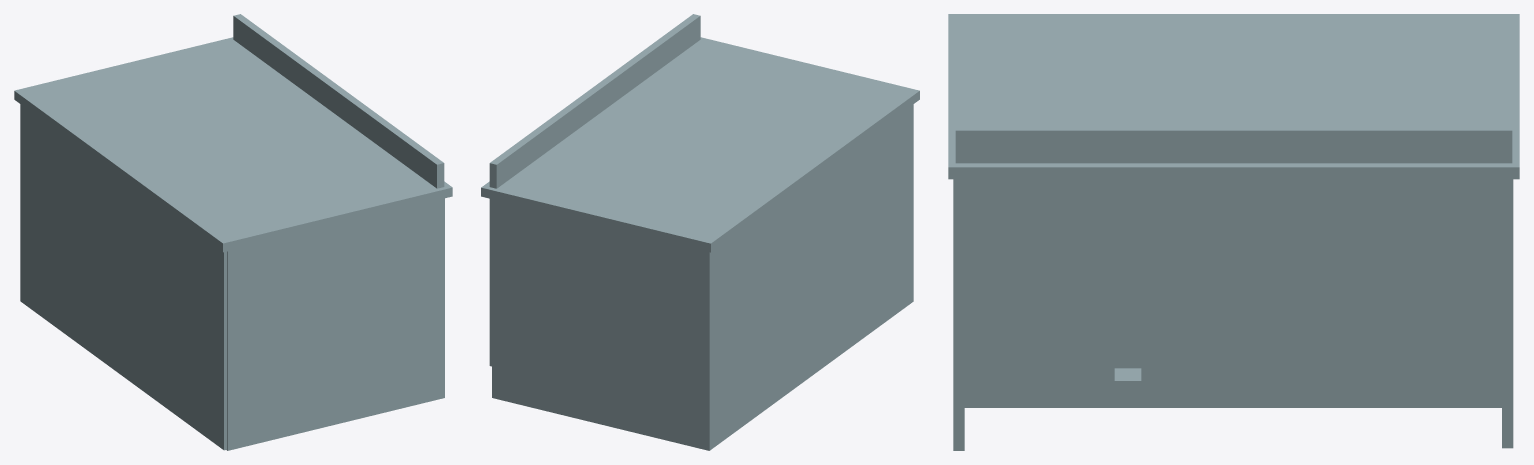
The model's file is boxy.fbx.
3 views of the same model, side by side, from view 1: azimuth 30°, elevation 25°; view 2: azimuth 150°, elevation 25°; view 3: azimuth 270°, elevation 25° (orthographic). The views are drawn at different scales.
Visible parts, largest first — view 1: pCube7, pCube4, pCube1, pCube8; view 2: pCube7, pCube5, pCube1, pCube8; view 3: pCube8, pCube7, pCube4, pCube5.
Part boxes in pixels (bbox=[...]): pCube7: bbox=[14, 37, 452, 252]; pCube4: bbox=[227, 198, 444, 450]; pCube1: bbox=[20, 104, 226, 450]; pCube8: bbox=[233, 14, 444, 188]; pCube7: bbox=[481, 37, 919, 252]; pCube5: bbox=[492, 199, 709, 450]; pCube1: bbox=[709, 104, 913, 450]; pCube8: bbox=[489, 14, 700, 366]; pCube8: bbox=[955, 125, 1512, 407]; pCube7: bbox=[948, 14, 1519, 179]; pCube4: bbox=[953, 179, 964, 450]; pCube5: bbox=[1502, 179, 1513, 448].
Size of the model in its own units: 14.71 by 14.34 by 23.18.
